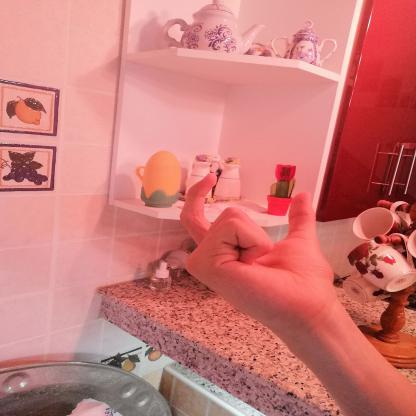NOON: (159, 164, 350, 333)
